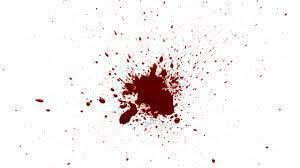Fire: (119, 63, 179, 124), (113, 30, 124, 36), (85, 100, 93, 108), (99, 97, 106, 104), (117, 78, 125, 83), (35, 99, 44, 103), (80, 109, 87, 114), (175, 118, 181, 123), (169, 24, 174, 29), (212, 159, 216, 164), (160, 56, 164, 61), (86, 102, 90, 106), (105, 53, 109, 57), (114, 94, 118, 98), (128, 73, 132, 77), (171, 63, 174, 68), (46, 109, 50, 112), (128, 54, 131, 58), (139, 37, 142, 41), (111, 88, 115, 91), (104, 115, 108, 118), (127, 59, 130, 62), (156, 27, 159, 30), (175, 114, 178, 117), (194, 129, 198, 131), (109, 73, 112, 75), (156, 126, 158, 128), (177, 72, 179, 74)
